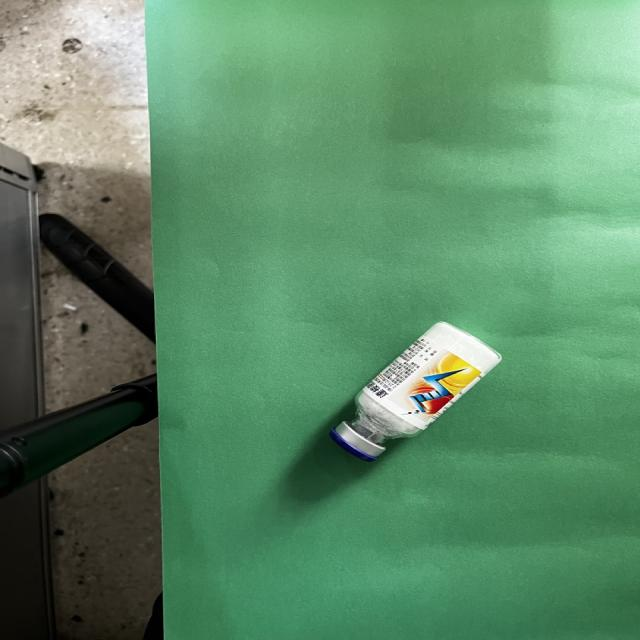Vials: (330, 322, 501, 461)
